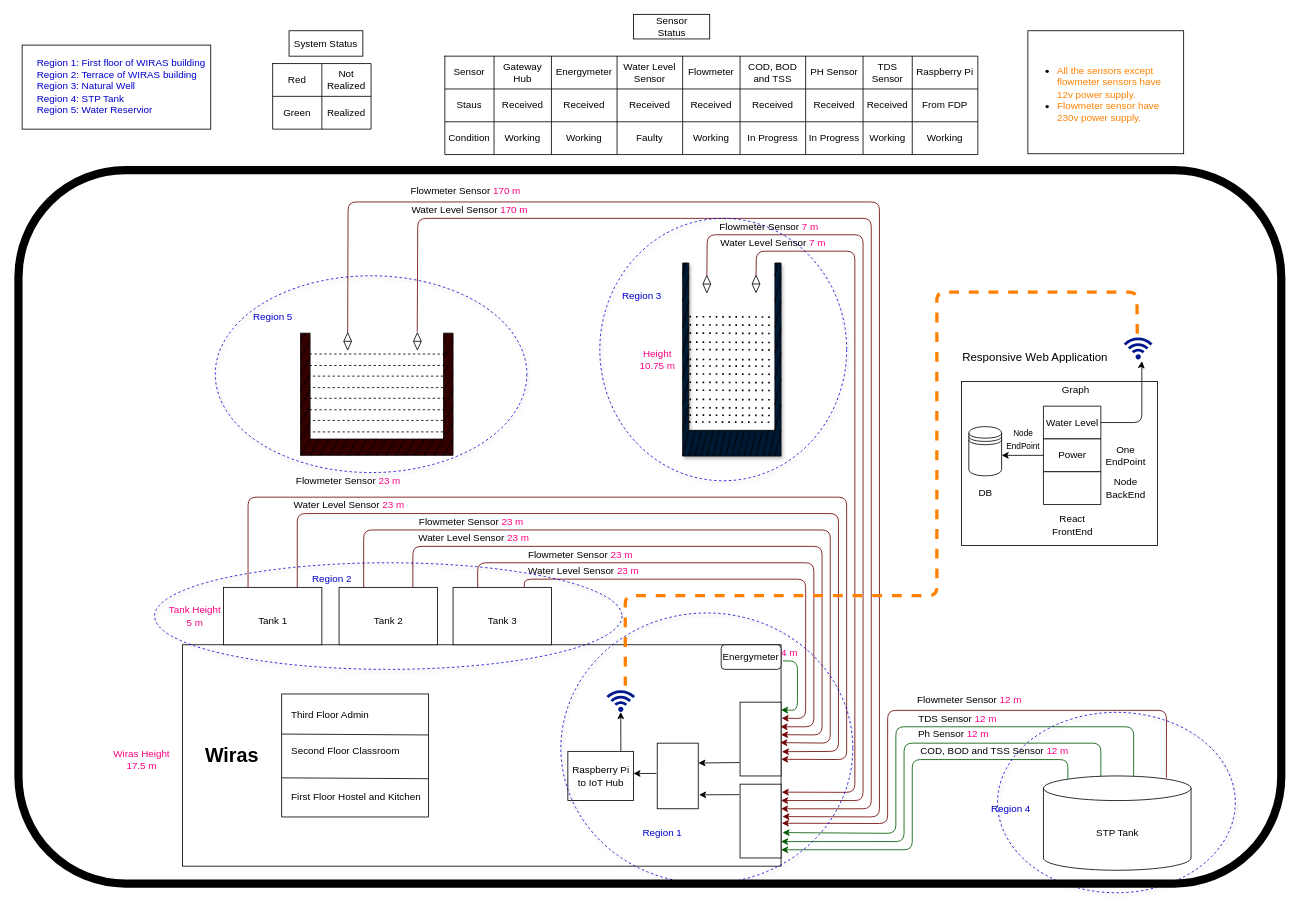
This 1299x913 diagram has some shape labels left out. The shapes that lost their labels are listed below. From the top down, each one's centre as x and y in pixels, then its label:
At point (732, 360): "Well".
At point (1072, 488): "Water Sensors".
At point (760, 738): "ED2 8 Port".
At point (677, 775): "Router".
At point (760, 820): "ED1 8 Port".
